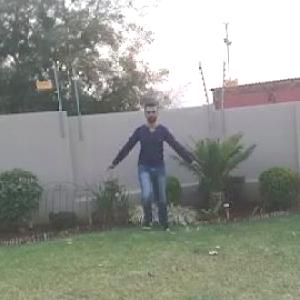land: (111, 99, 213, 234)
